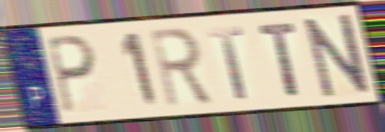1: (119, 30, 159, 109)
N: (301, 11, 373, 101)
P: (44, 33, 99, 117)
R: (147, 25, 216, 111)
T: (257, 20, 303, 99), (206, 24, 250, 102)
